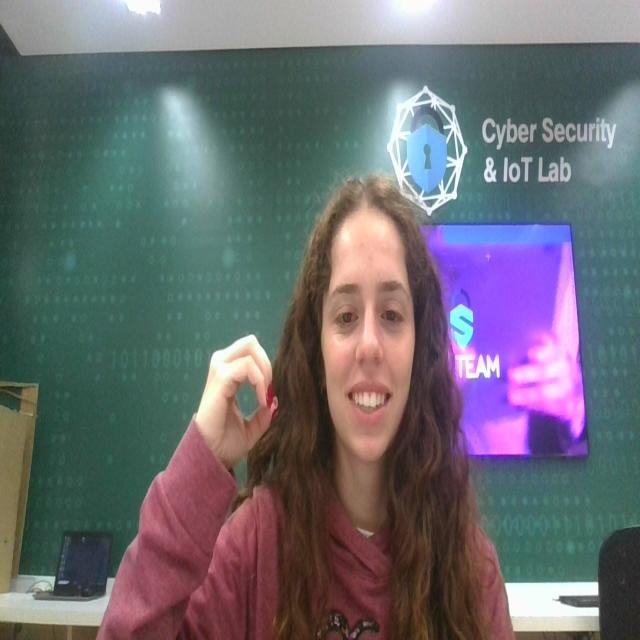O: (195, 322, 286, 462)
